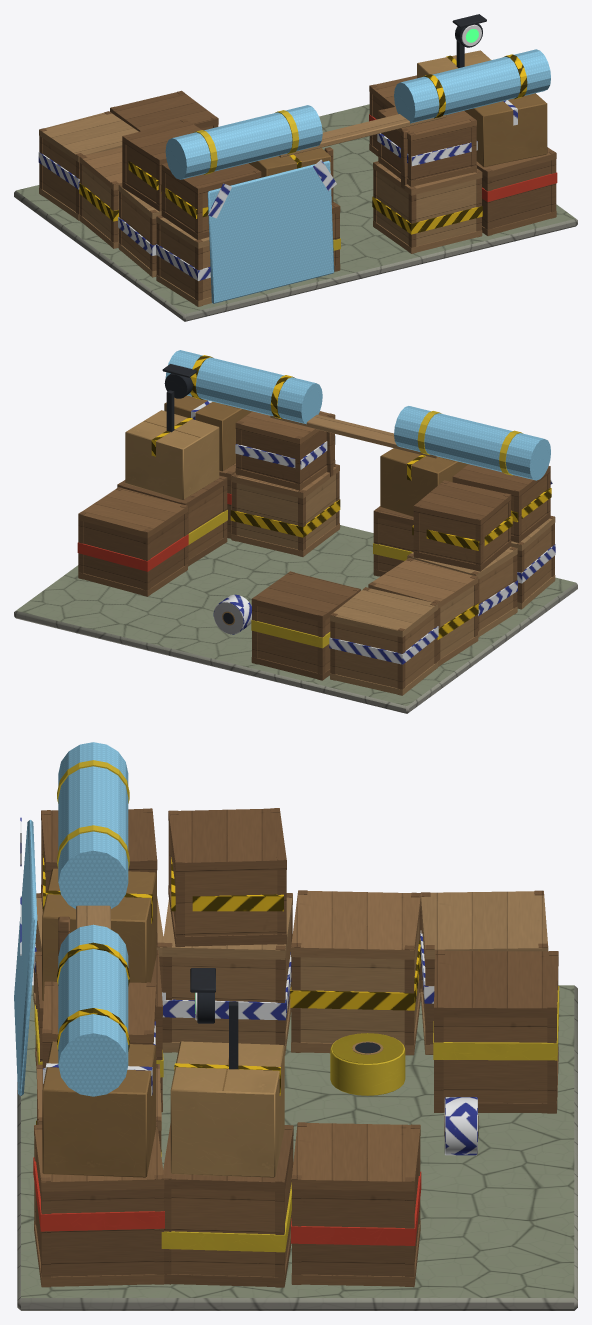
File: spooler_crate_bunker.glb
The picture shows the model from 3 angles, top to bottom: view 1: azimuth 30°, elevation 25°; view 2: azimuth 150°, elevation 25°; view 3: azimuth 270°, elevation 25°; orthographic projection. The views are drawn at different scales.
Visible parts, largest first — view 1: spooler_crate_bunker; view 2: spooler_crate_bunker; view 3: spooler_crate_bunker.
Part boxes in pixels (x1=…): spooler_crate_bunker: x1=14, y1=14, x2=577, y2=321; spooler_crate_bunker: x1=14, y1=350, x2=577, y2=713; spooler_crate_bunker: x1=14, y1=742, x2=577, y2=1310.
Size of what is drawn, in the model's own units: 6.4 by 2.76 by 4.83.
Materials: 27 (26 with a texture image).
